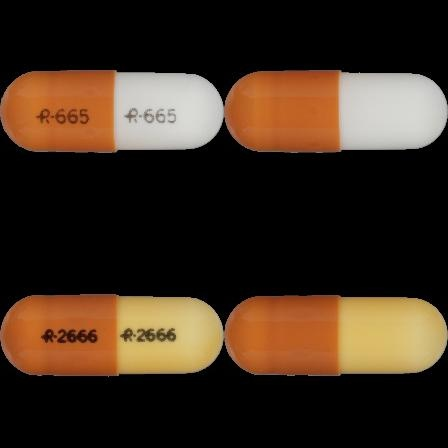0228-2665: (0, 0, 224, 224)
